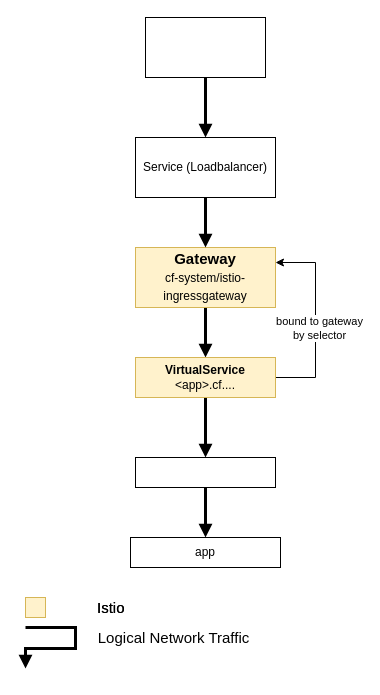
The diagram is 380 pixels wide and 695 high, and some of its shapes have lost their labels. Here are the shapes that lost their labels. From the top down, the centre of each, then its label:
At (205,47): "Client".
At (205,472): "App Service".
